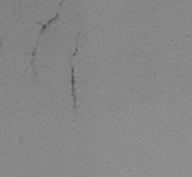fissura: (22, 6, 64, 82), (68, 48, 89, 107)
